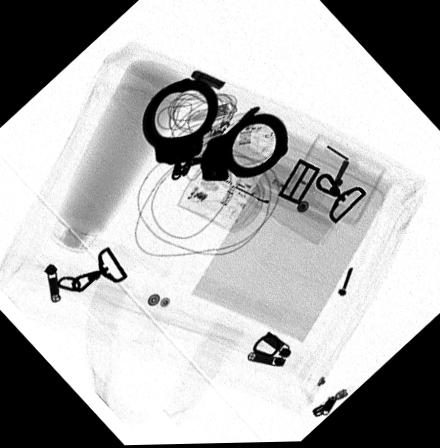HandCuffs: (142, 77, 287, 181)
